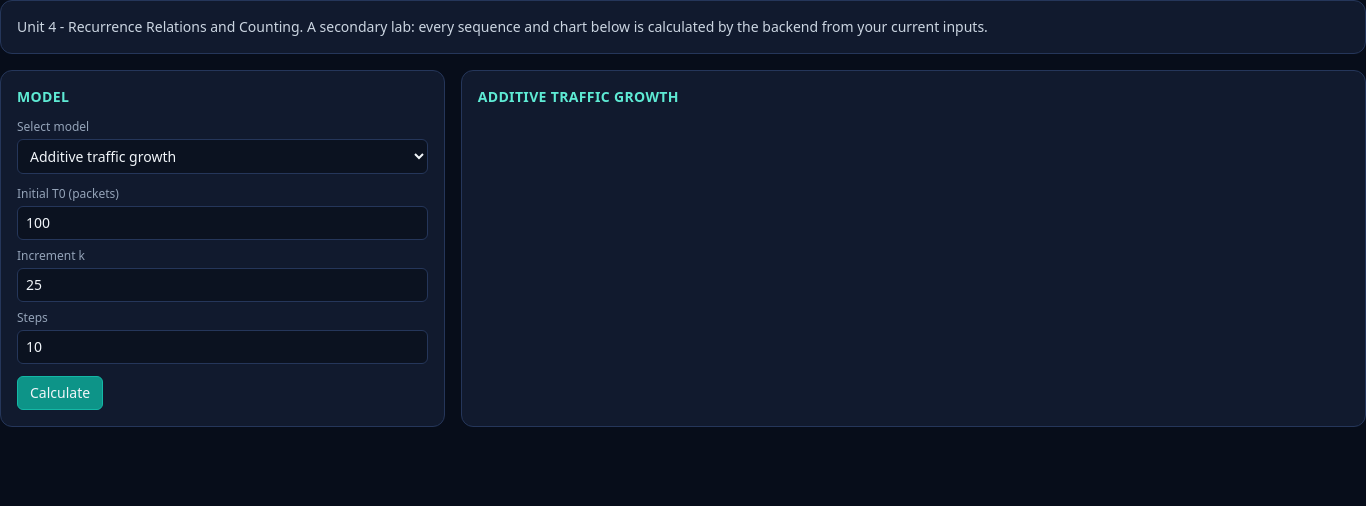
Math Lab › model selector swaps inputs and results are computed from the current inputs
This screenshot has width=1366, height=506.
expect the field labelled "Increment k" is shown: met, box [17,268,428,302]
Click the button "Calculate" at (60, 393), box [17,376,103,410]
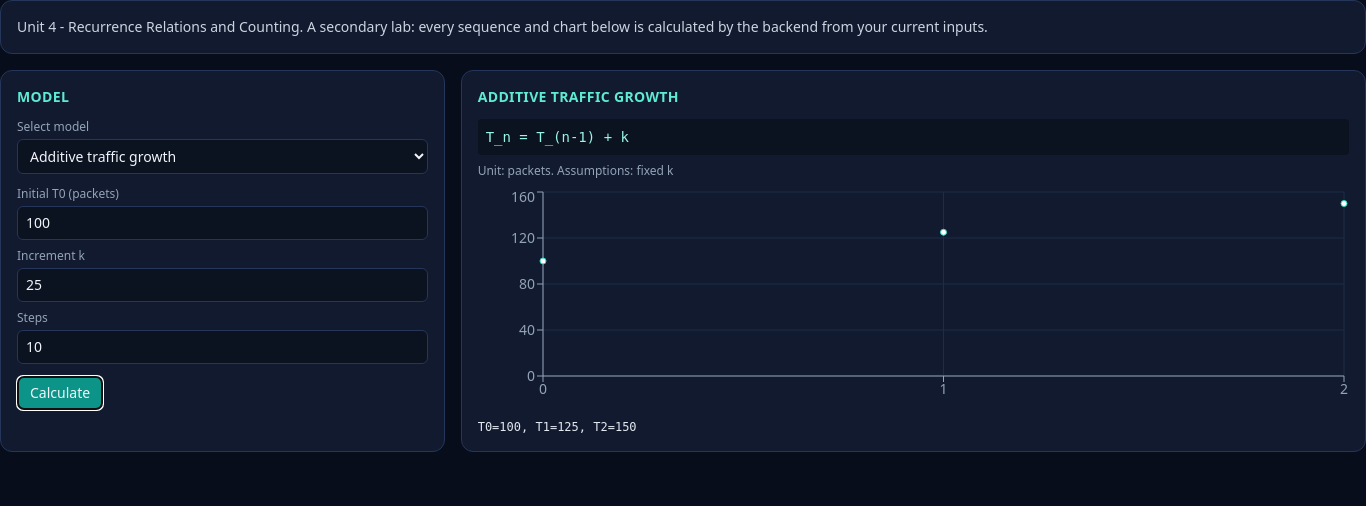
expect the text with test id "sequence" reads "T0=100, T1=125, T2=150": met, box [478,420,637,434]
Select "Exponential backoff" in the dropdown labelled "Select model" at (222, 156), box [17,139,428,174]
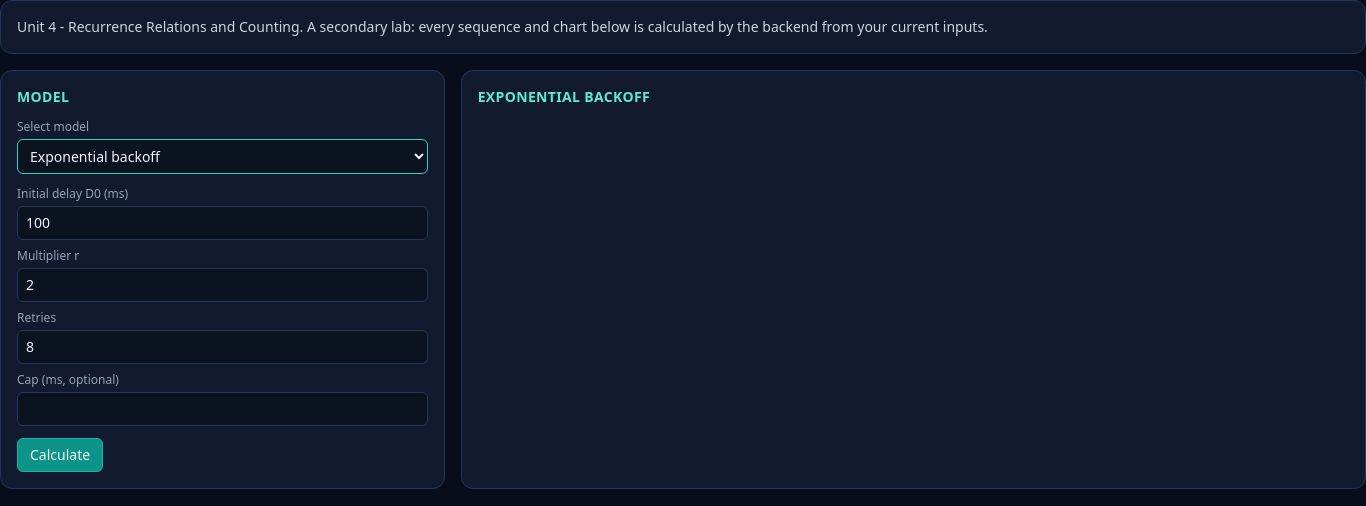
expect the label labelled "Increment k" is gone: met
Type "300" into the field labelled "Cap (ms, optional)" at (222, 409), box [17,392,428,426]
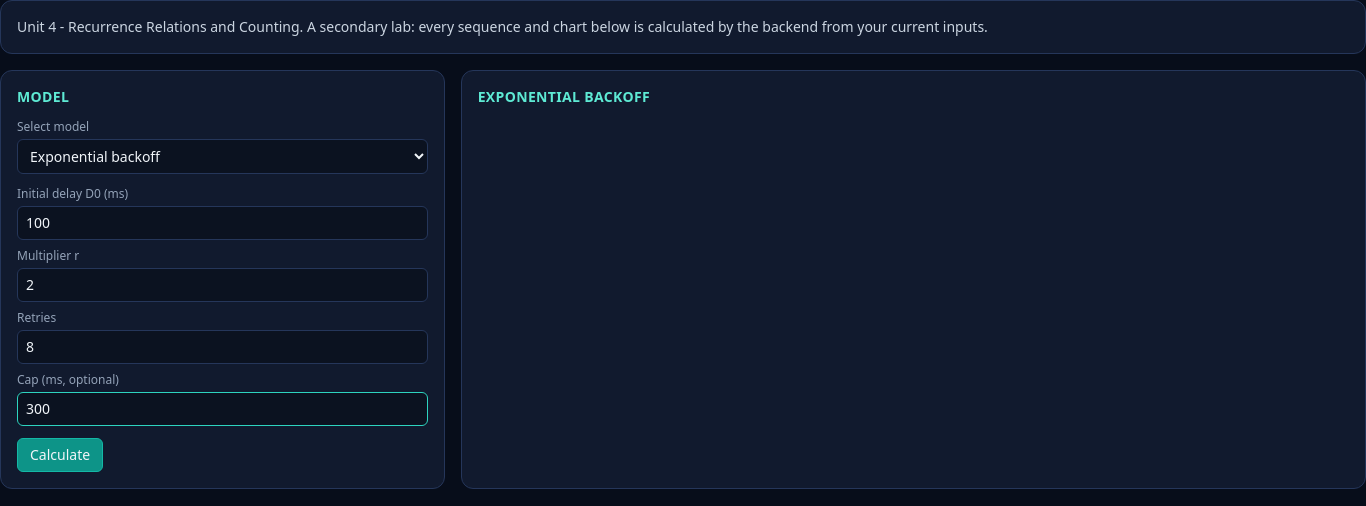
Click the button "Calculate" at (60, 455), box [17,438,103,472]
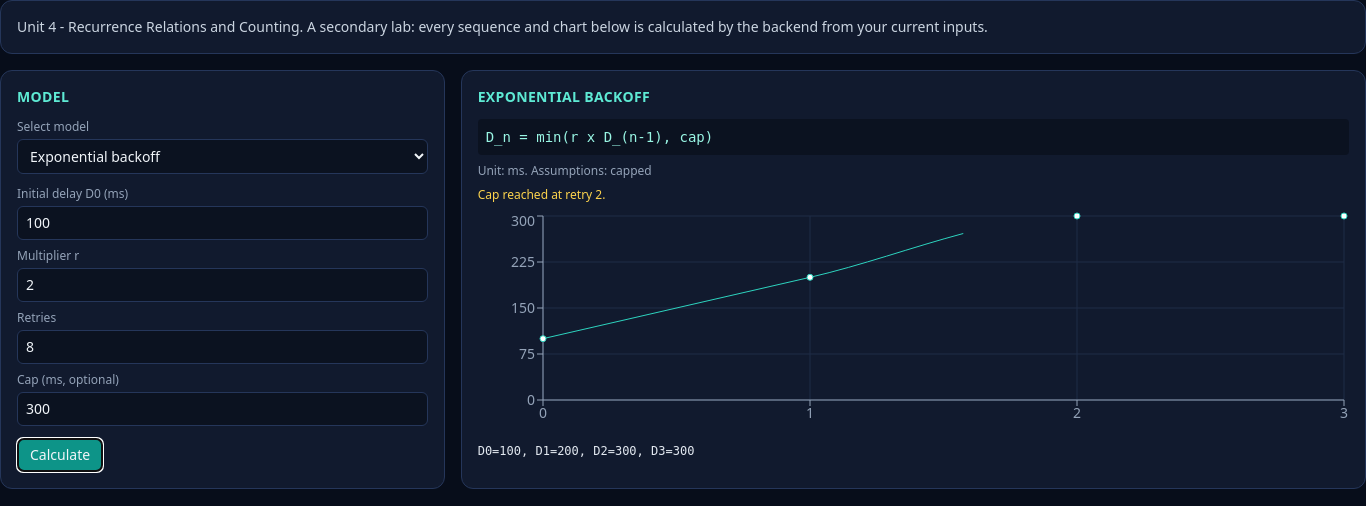
expect the text with test id "formula" shows "min(r x D_(n-1), cap)": met, box [486,129,713,145]
expect the element with test id "chart" is shown: met, box [478,211,1349,435]
expect the text "Cap reached at retry 2." is shown: met, box [478,186,606,203]
